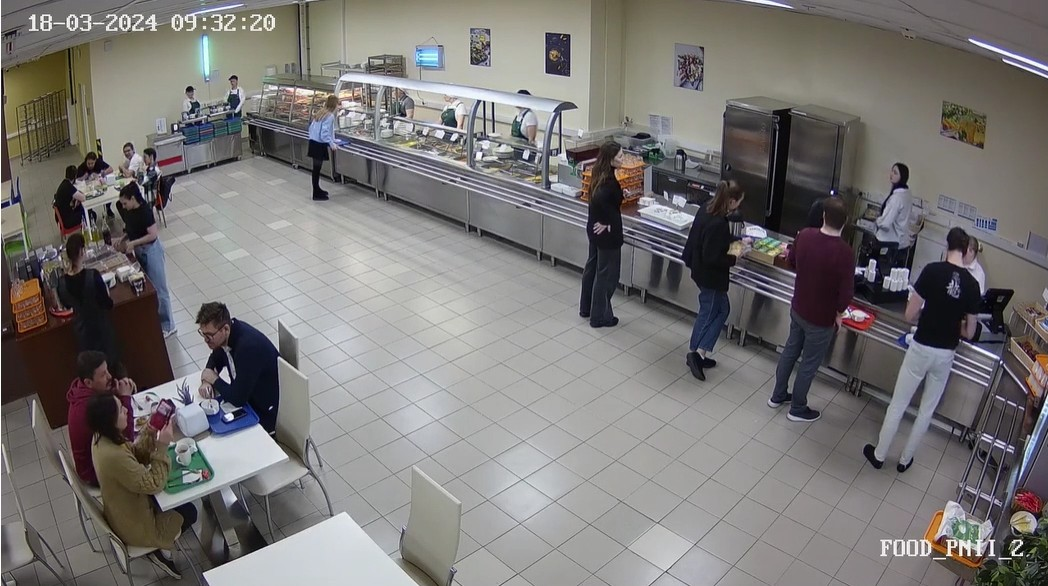Na_Kasse: (789, 212, 1011, 476), (758, 288, 776, 291)
Ne_v_Ocheredi: (102, 176, 238, 354), (41, 235, 151, 367)
Personal: (873, 152, 919, 259), (432, 77, 475, 139), (223, 70, 248, 126), (177, 81, 206, 129)
Vybiraet: (642, 165, 759, 380), (569, 137, 633, 329), (295, 85, 346, 214)
Za_Stolom: (689, 173, 894, 424), (86, 391, 169, 550), (191, 296, 287, 431), (56, 355, 118, 471), (45, 160, 91, 233), (134, 147, 175, 196), (74, 147, 114, 180), (120, 135, 146, 172)
